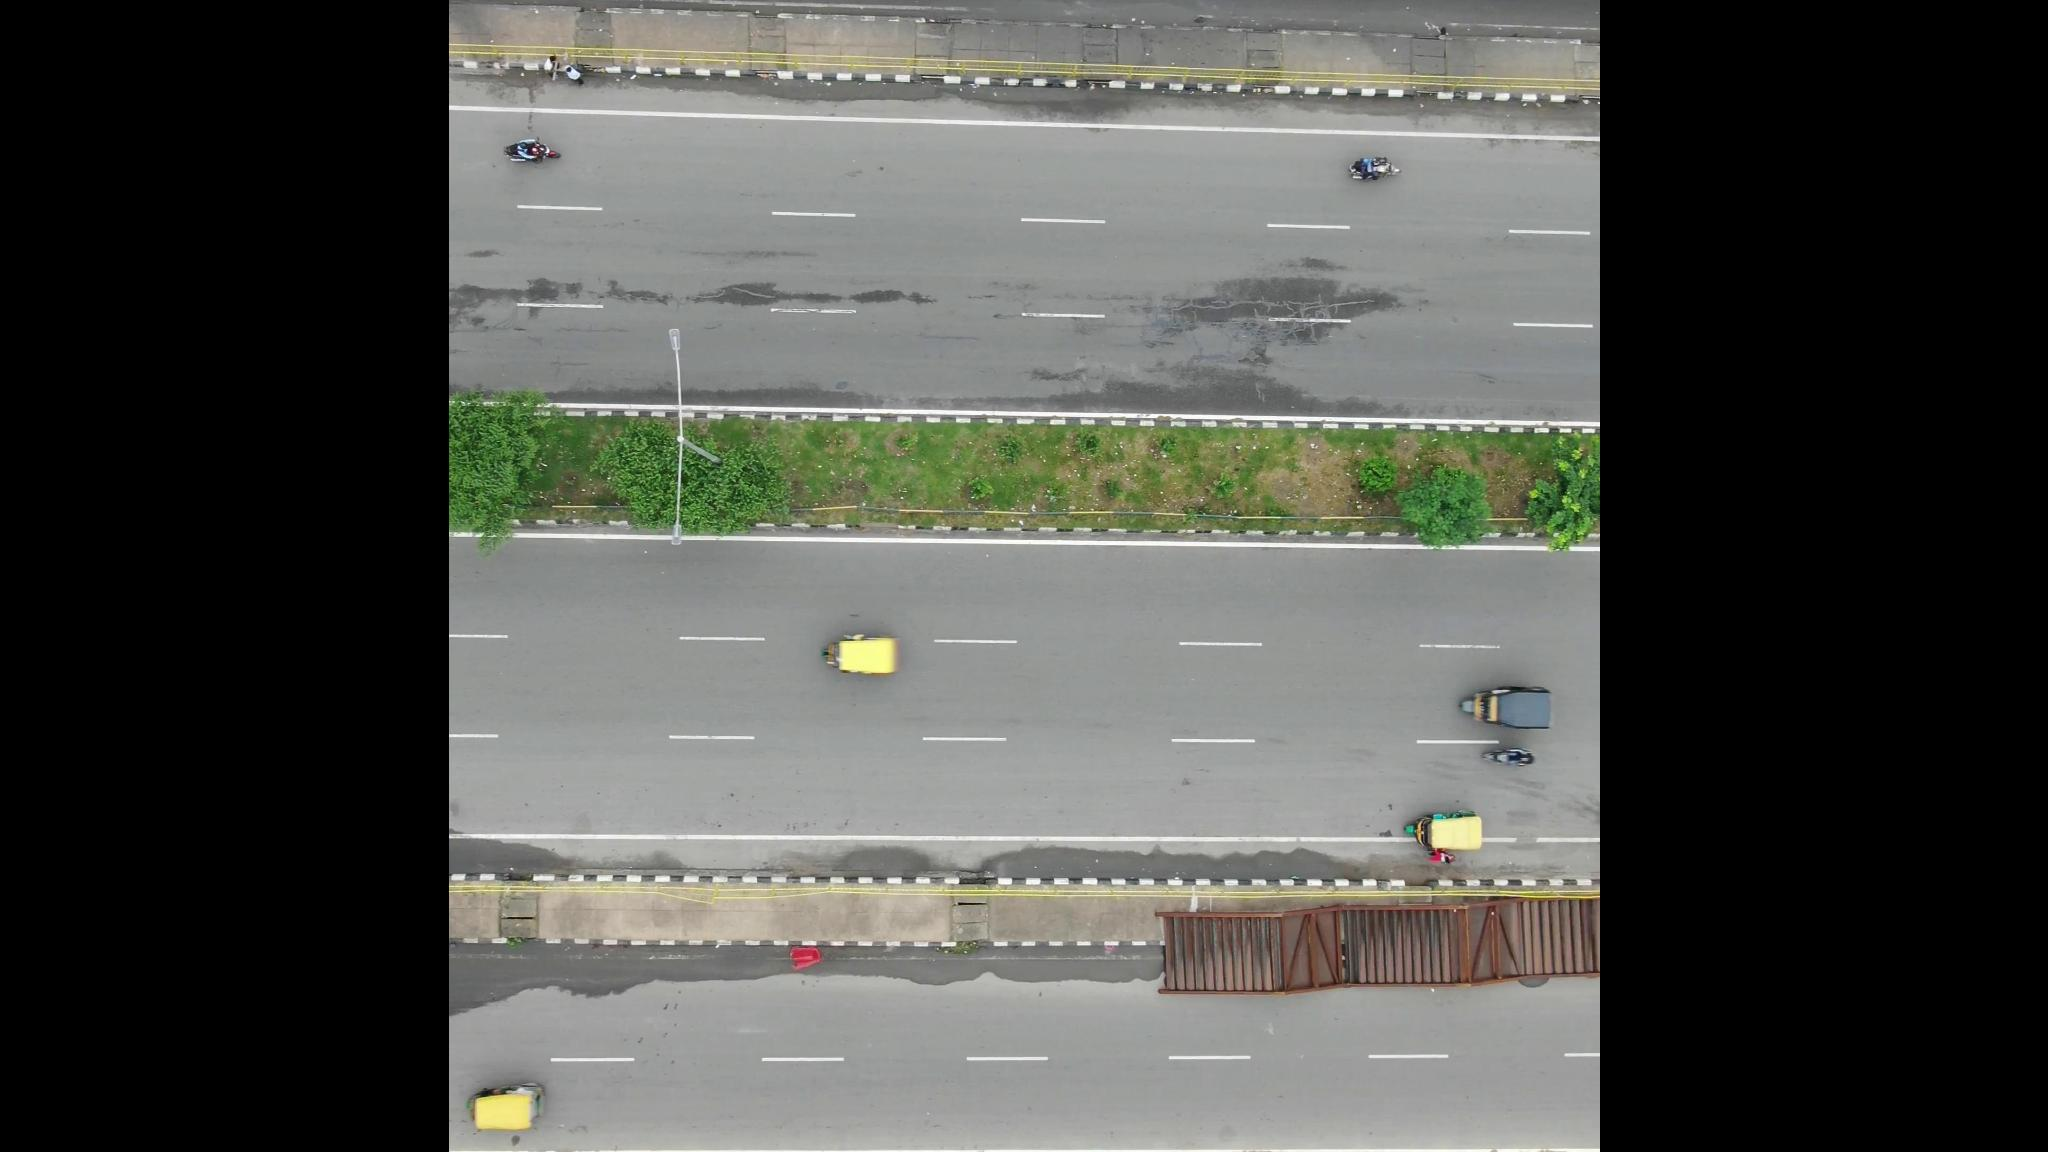Cracks: (1155, 257, 1402, 349)
